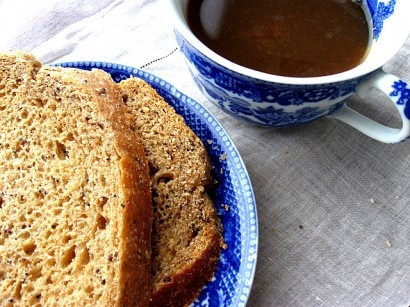background: (0, 24, 141, 147), (119, 0, 236, 37)
